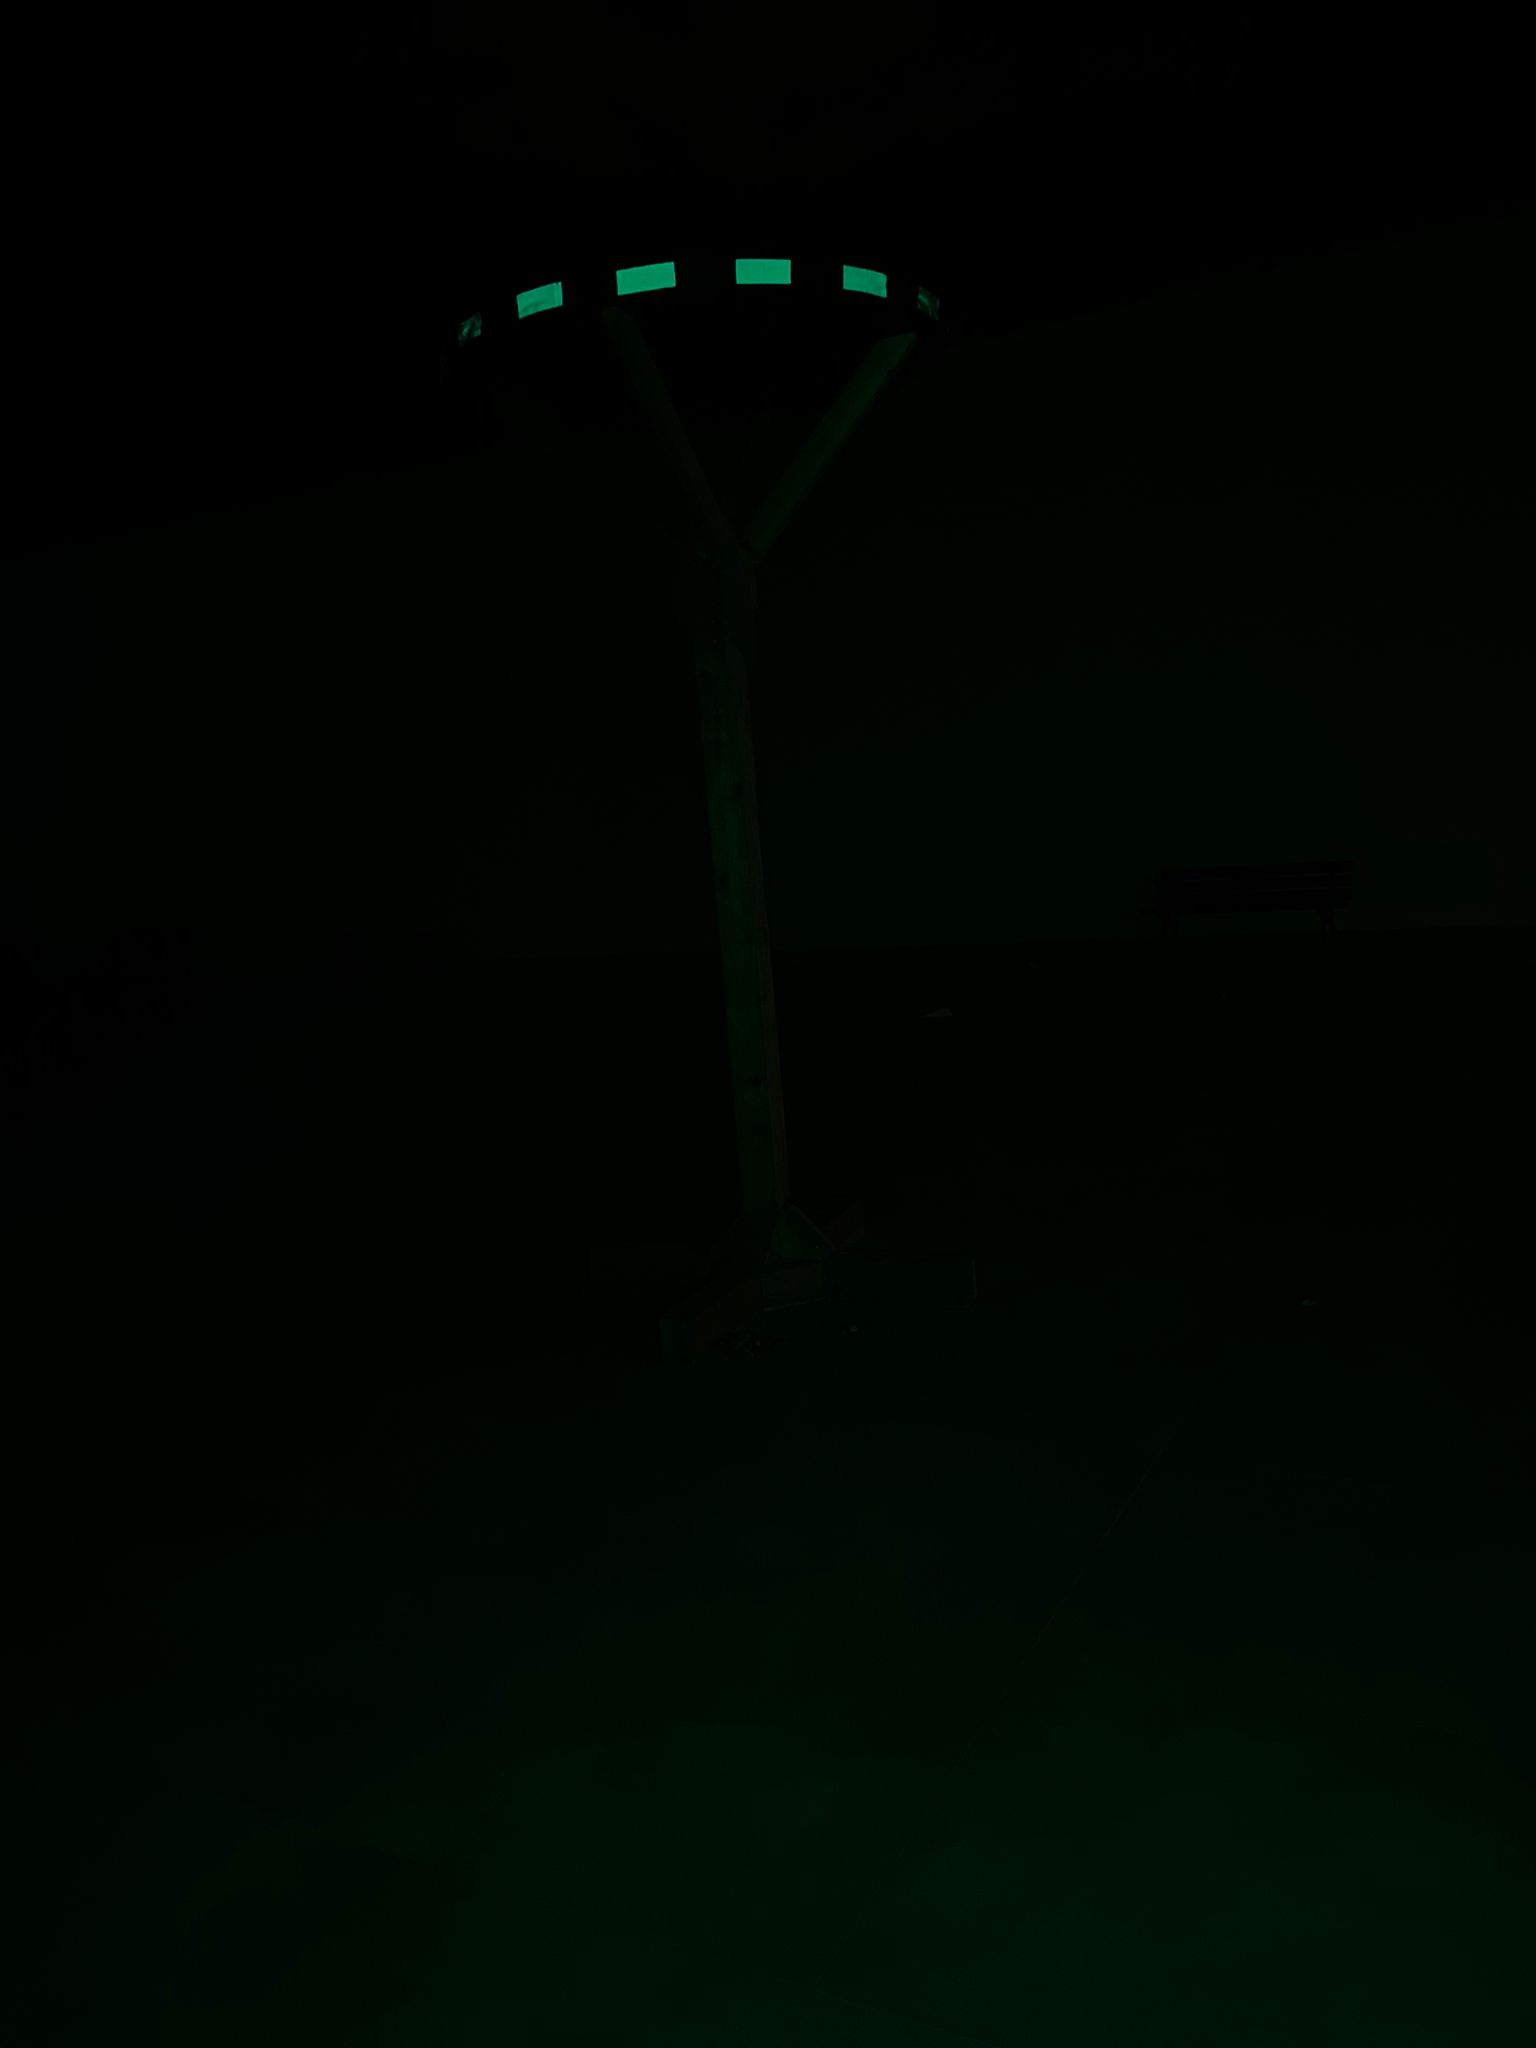hoop: (432, 244, 945, 345)
